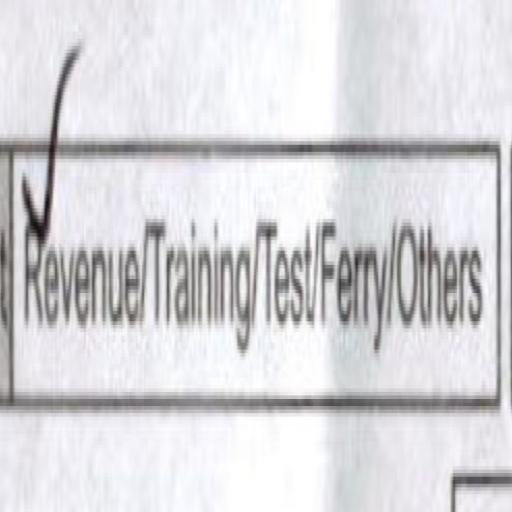check: (16, 0, 138, 416)
